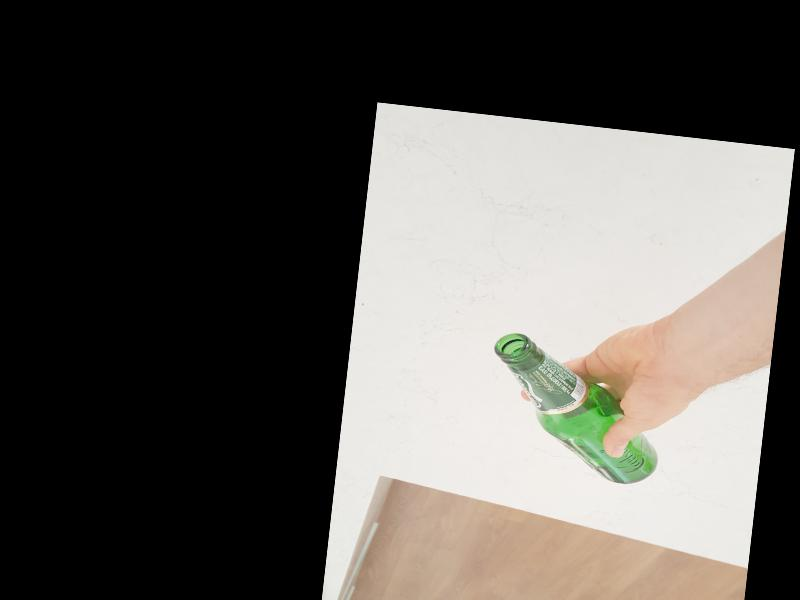Beer: (479, 328, 668, 486)
